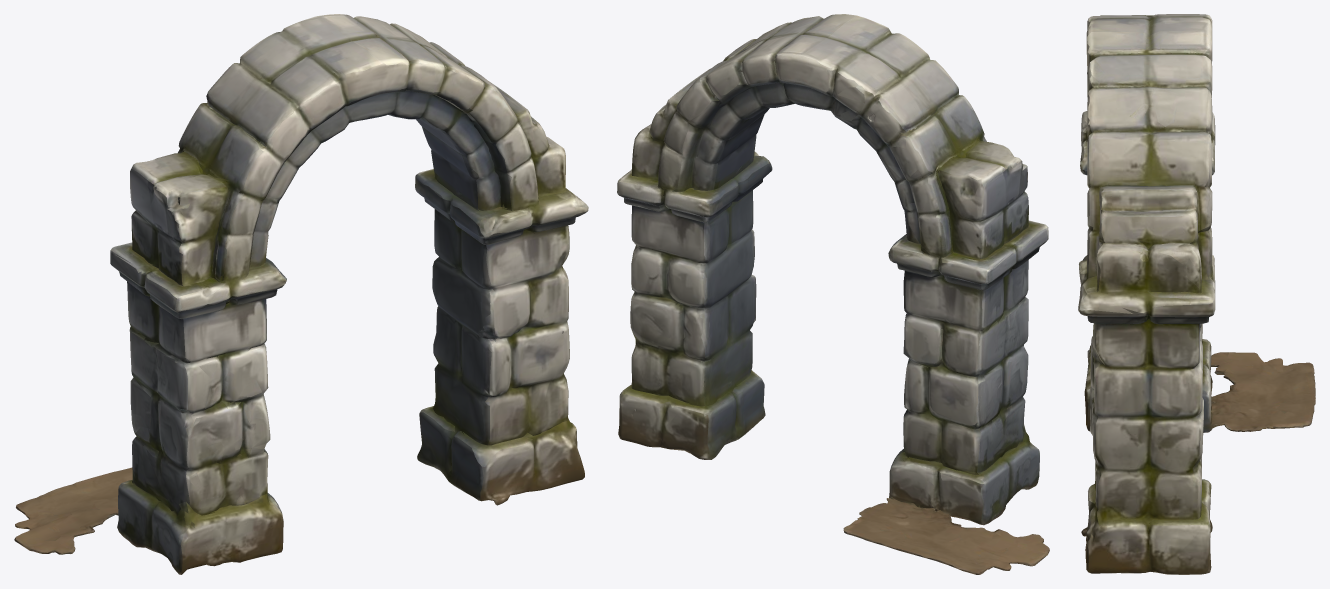
The model's file is ruins_arch_low.glb.
3 views of the same model, side by side, from view 1: azimuth 30°, elevation 25°; view 2: azimuth 150°, elevation 25°; view 3: azimuth 270°, elevation 25° (orthographic). The views are drawn at different scales.
Visible parts, largest first — view 1: geometry_0; view 2: geometry_0; view 3: geometry_0.
Boxes of the visible parts, left/top/right/bottom form: geometry_0: left=14, top=14, right=588, bottom=574; geometry_0: left=617, top=14, right=1049, bottom=574; geometry_0: left=1078, top=14, right=1315, bottom=574.
Bounding box in the file's own units: 3.2 × 3 × 1.42.
Materials: 1 (1 with a texture image).
